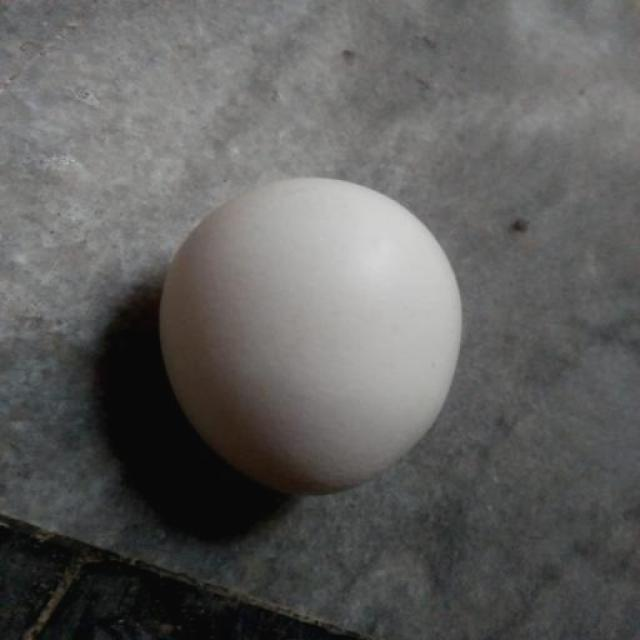telur: (157, 177, 468, 494)
